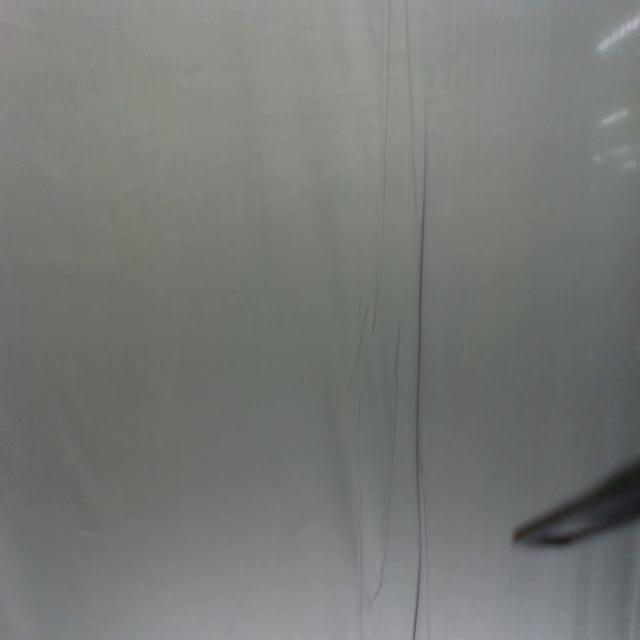crease: (404, 2, 435, 638), (344, 0, 392, 391), (370, 320, 407, 609)
